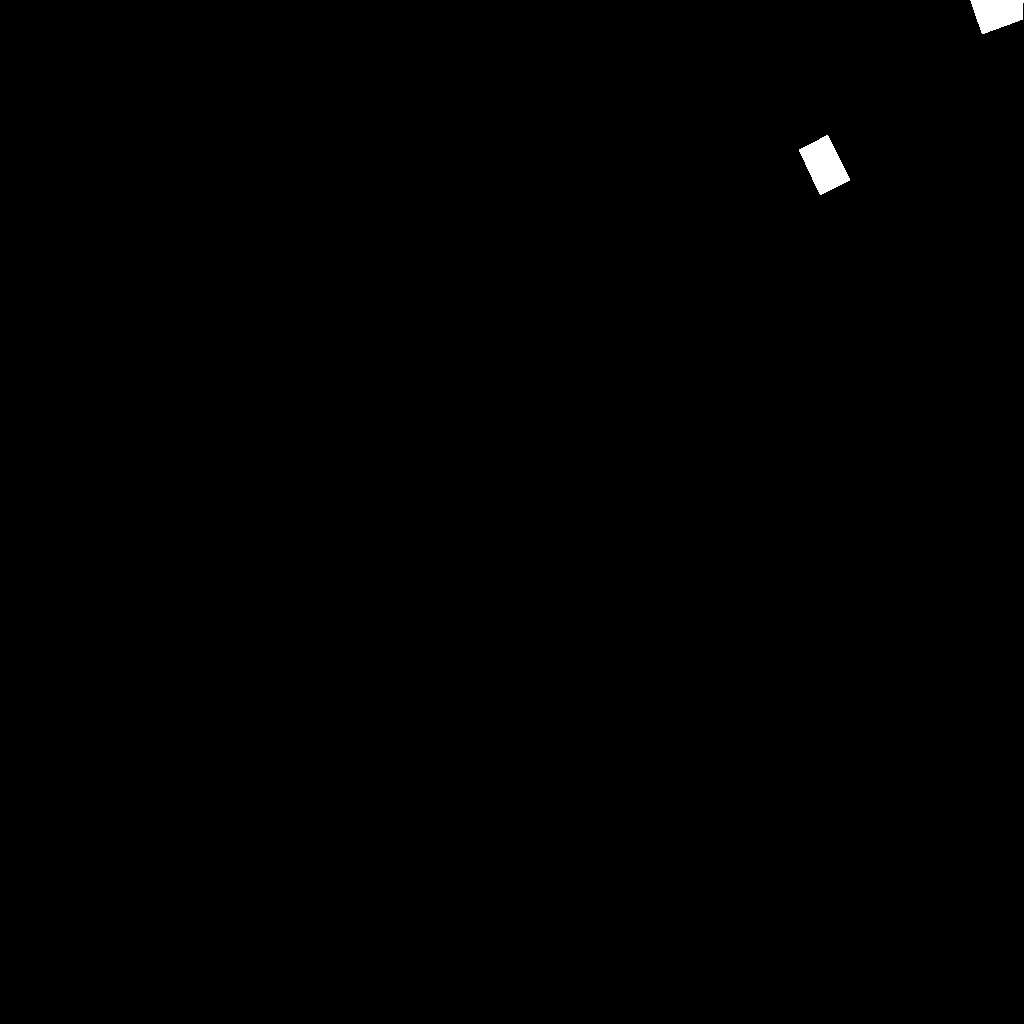building: (799, 135, 851, 196), (970, 0, 1024, 35)
